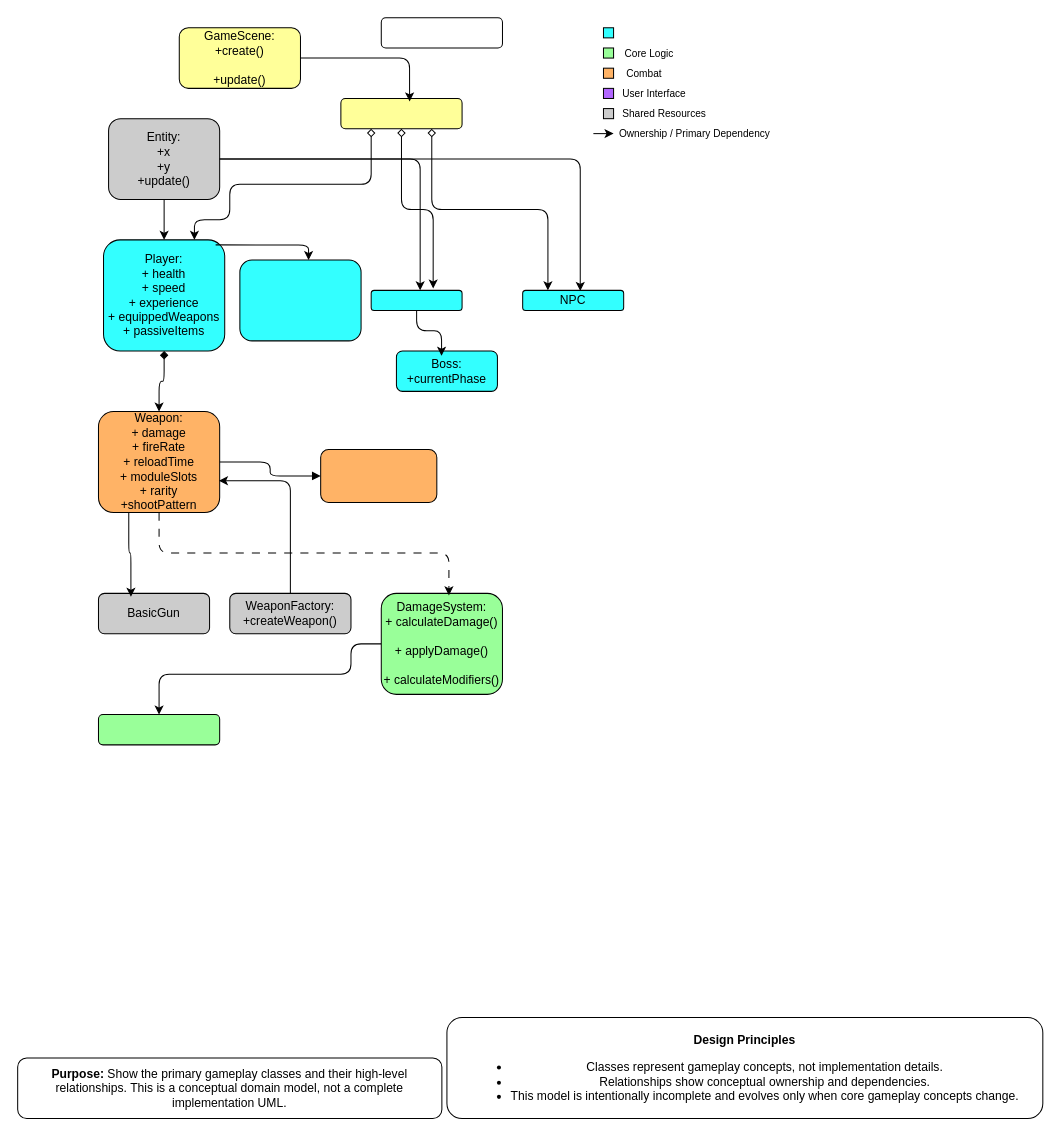
Some shapes in this 1061 by 1136 pixel diagram are drawn without their labels. Each missing label, with the centre of its shape:
"Enemy" goes at (x=416, y=300).
"equippedPassives: +rarity +effect +stackable" goes at (x=300, y=300).
"GameWorld" goes at (x=401, y=113).
"Projectile: + speed + lifetime" goes at (x=378, y=475).
"Scenes" goes at (x=441, y=32).
"StatusEffectSystem" goes at (x=158, y=729).
